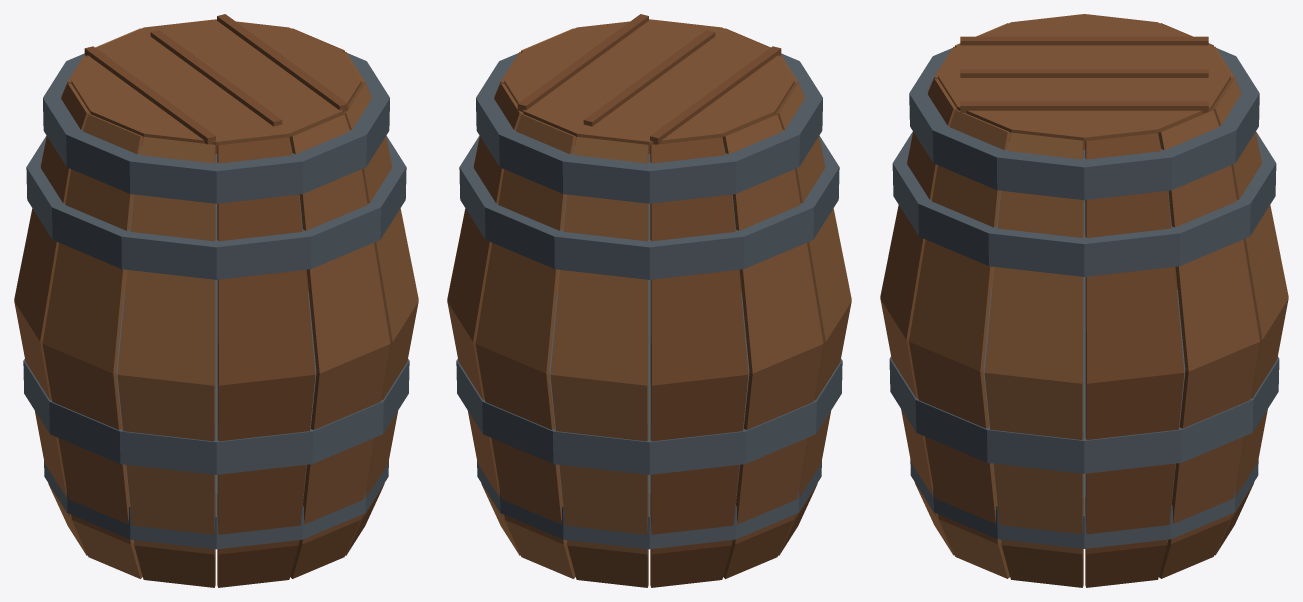
The model's file is PROP_02_Barrel.glb.
The picture shows the model from 3 angles, left to right: view 1: azimuth 30°, elevation 25°; view 2: azimuth 150°, elevation 25°; view 3: azimuth 270°, elevation 25°; orthographic projection.
Parts seen in each view (by area): view 1: PROP_02_Barrel; view 2: PROP_02_Barrel; view 3: PROP_02_Barrel.
Part boxes in pixels (x1,y1,x2,y2): PROP_02_Barrel: (14,14,418,587); PROP_02_Barrel: (447,14,851,587); PROP_02_Barrel: (880,14,1288,587).
Bounding box in the file's own units: 1.06 × 1.3 × 1.06.
